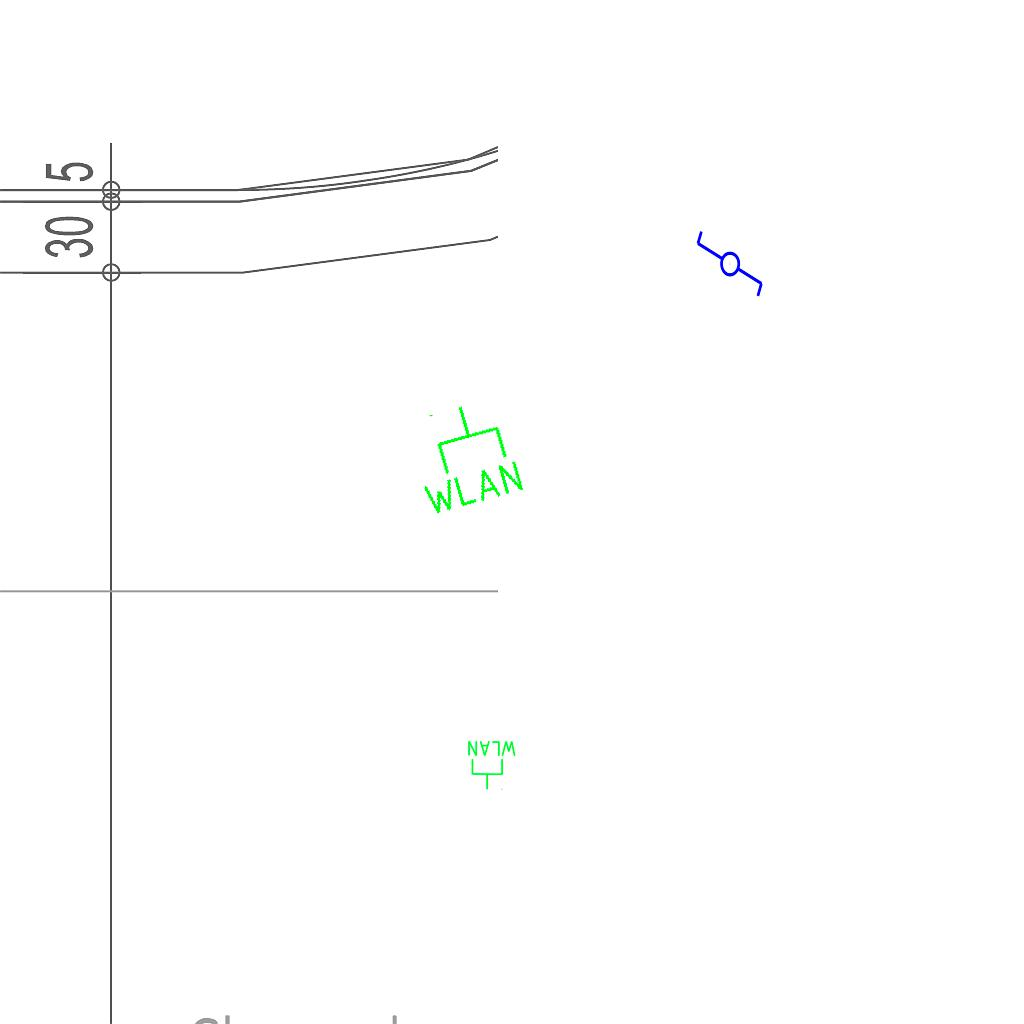WLAN: (399, 392, 529, 521), (466, 739, 518, 791)
Wechselschalter: (693, 229, 765, 307)
